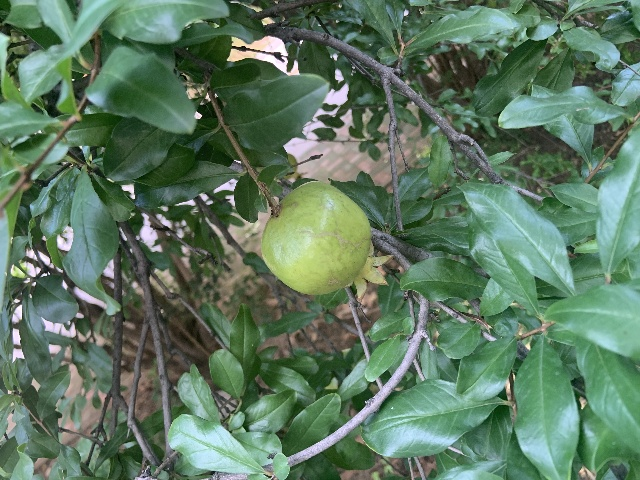mid-growth: (261, 180, 395, 303), (282, 153, 308, 180)
